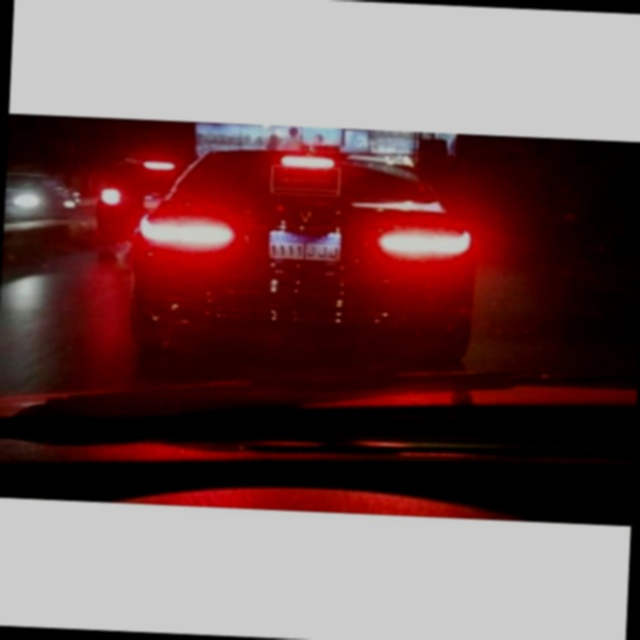License Plate: (264, 227, 345, 263)
